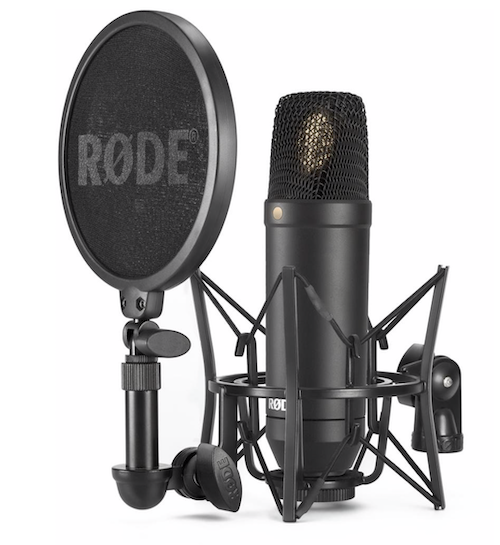microphone: (261, 89, 375, 505)
